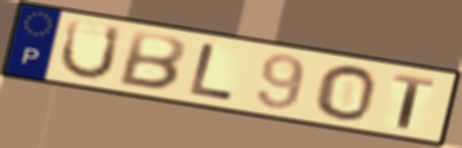9: (253, 52, 306, 112)
B: (114, 28, 189, 92)
L: (186, 40, 238, 102)
O: (313, 63, 378, 123)
T: (391, 71, 437, 131)
U: (56, 17, 125, 81)
